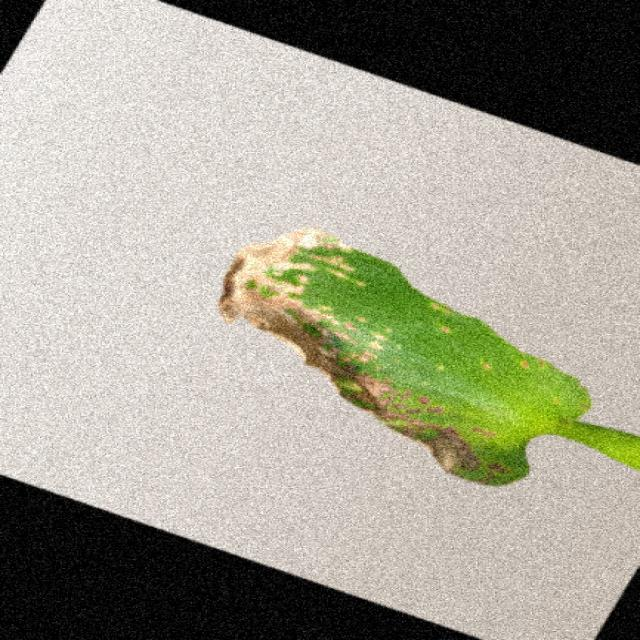daun berpenyakit bercak: (218, 229, 638, 484)
